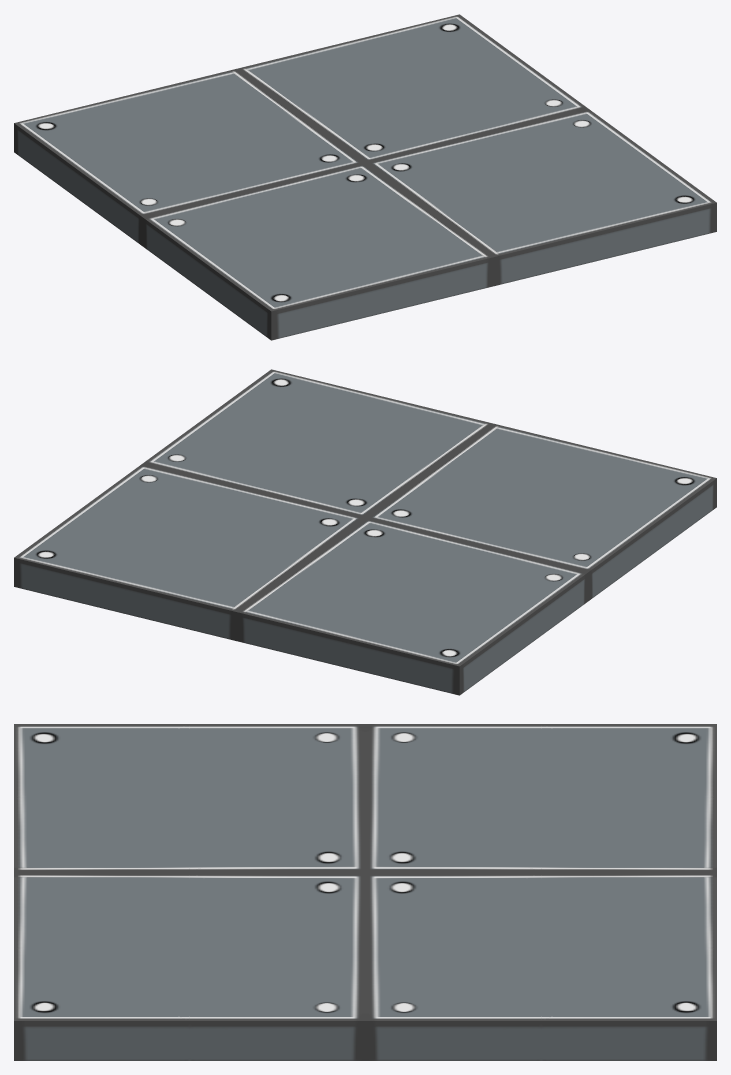
The model's file is space_floor.gltf.
3 renders of one model, top to bottom at view 1: azimuth 30°, elevation 25°; view 2: azimuth 150°, elevation 25°; view 3: azimuth 270°, elevation 25°, orthographic. The views are drawn at different scales.
Visible parts, largest first — view 1: space_floor_glb; view 2: space_floor_glb; view 3: space_floor_glb.
Part boxes in pixels (x1,y1,x2,y2): space_floor_glb: (14, 14, 716, 340); space_floor_glb: (14, 369, 716, 695); space_floor_glb: (14, 724, 716, 1060).
Size of what is drawn, in the model's own units: 4 by 0.25 by 4.
1 material, 1 textured.
